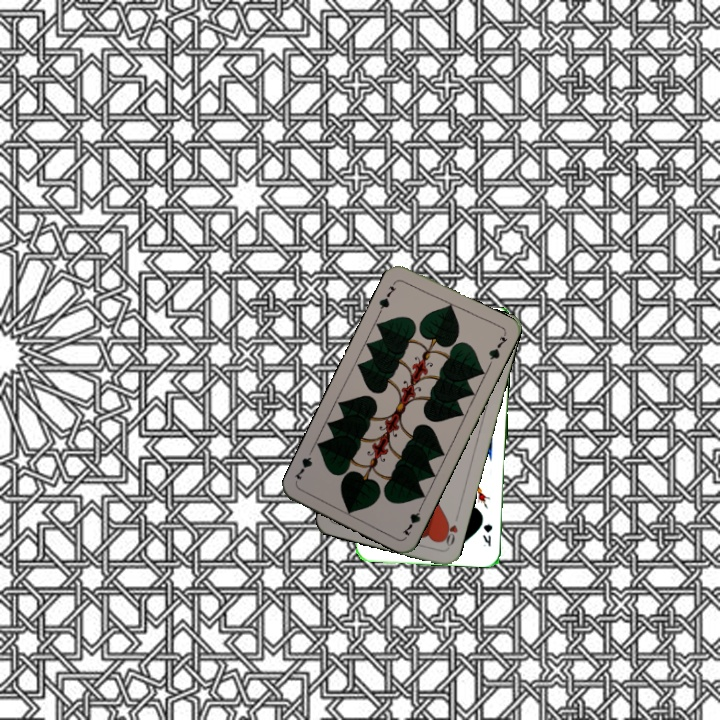G7: (398, 500, 425, 538), (375, 282, 399, 315)
GK: (478, 520, 495, 549)
HO: (438, 510, 461, 549)
